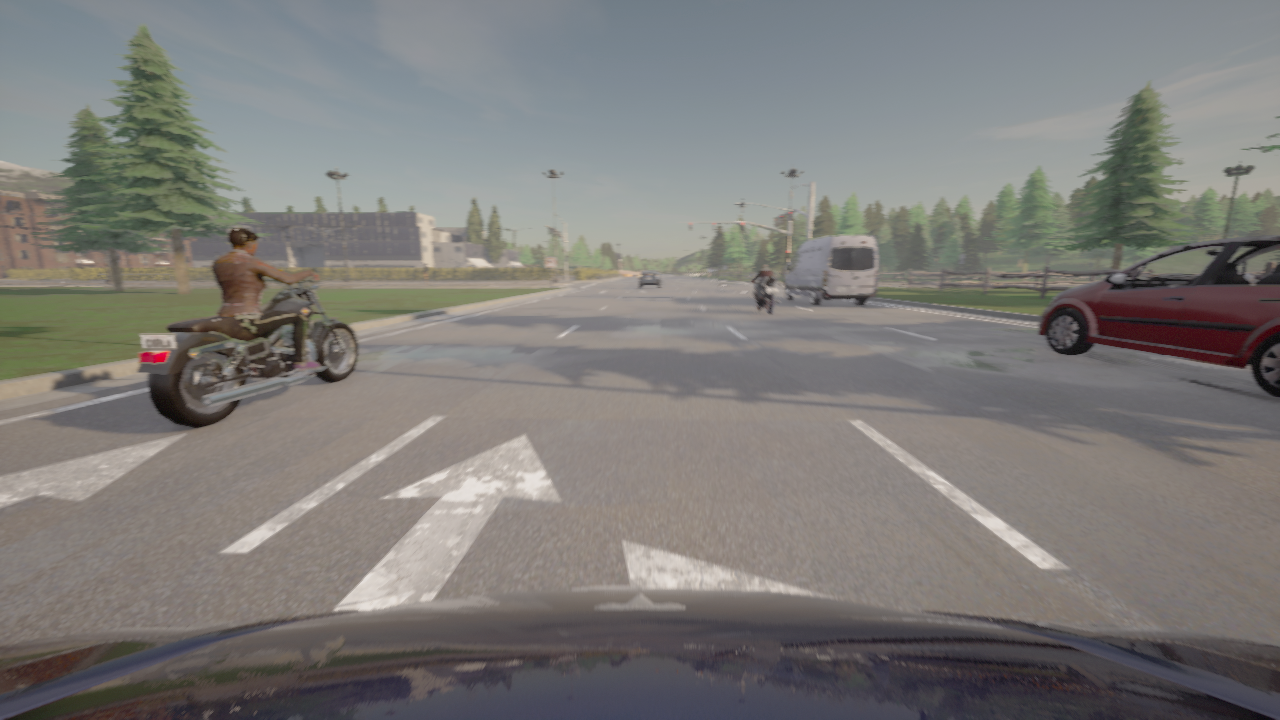cyclist: (0, 588, 1279, 719), (1037, 235, 1279, 397), (137, 267, 358, 428), (784, 235, 877, 305), (748, 274, 779, 314), (637, 269, 663, 288)
pedestrian: (422, 263, 427, 286)
